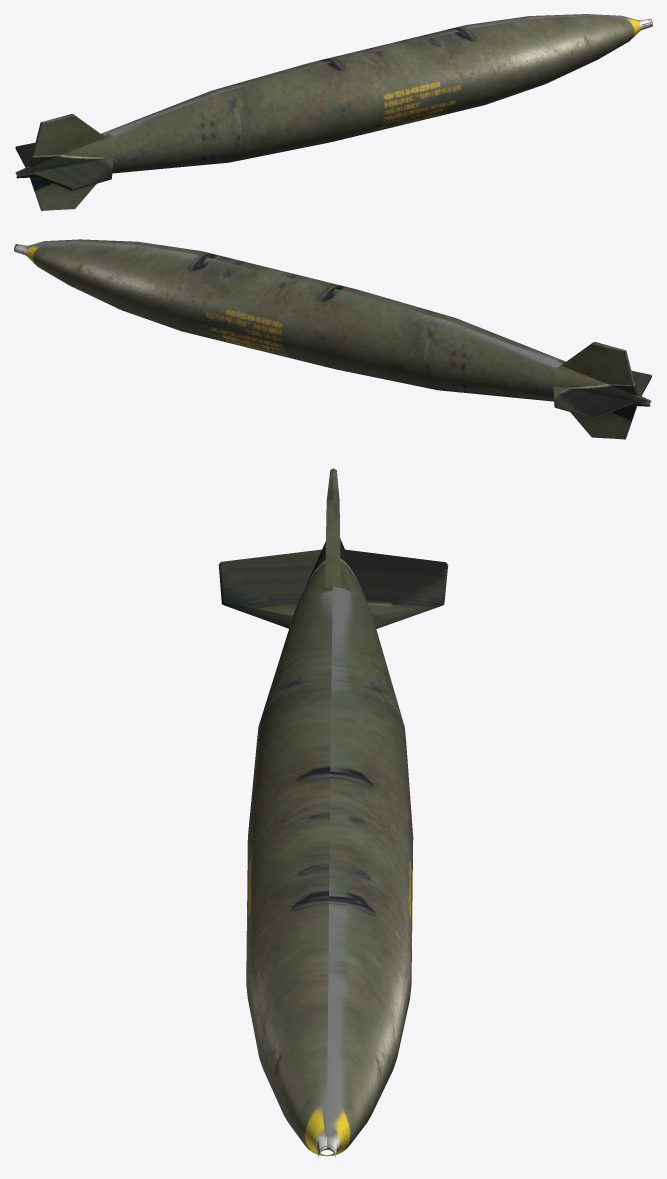
The picture shows the model from 3 angles, top to bottom: view 1: azimuth 30°, elevation 25°; view 2: azimuth 150°, elevation 25°; view 3: azimuth 270°, elevation 25°; orthographic projection. The views are drawn at different scales.
Parts seen in each view (by area): view 1: Circle; view 2: Circle; view 3: Circle.
Part boxes in pixels (bbox=[...]): Circle: bbox=[15, 14, 652, 210]; Circle: bbox=[14, 239, 651, 439]; Circle: bbox=[218, 468, 448, 1157].
Size of the model in its own units: 589 by 84.06 by 92.36.
1 material, 1 textured.
